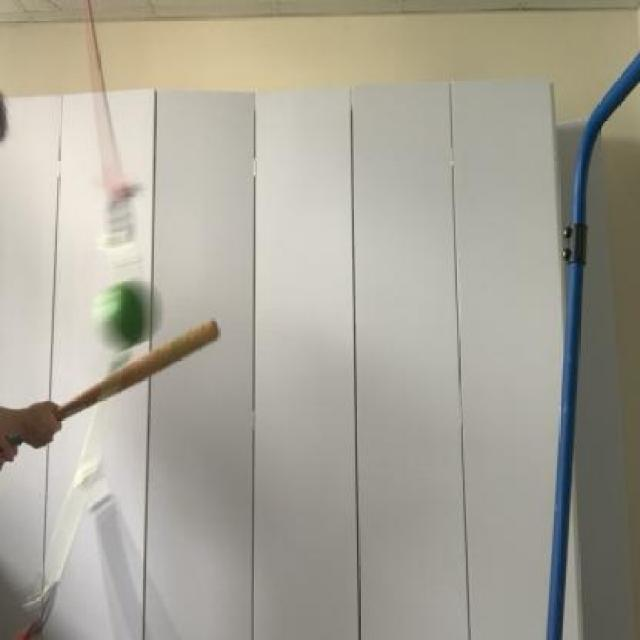baseball: (80, 274, 171, 358)
